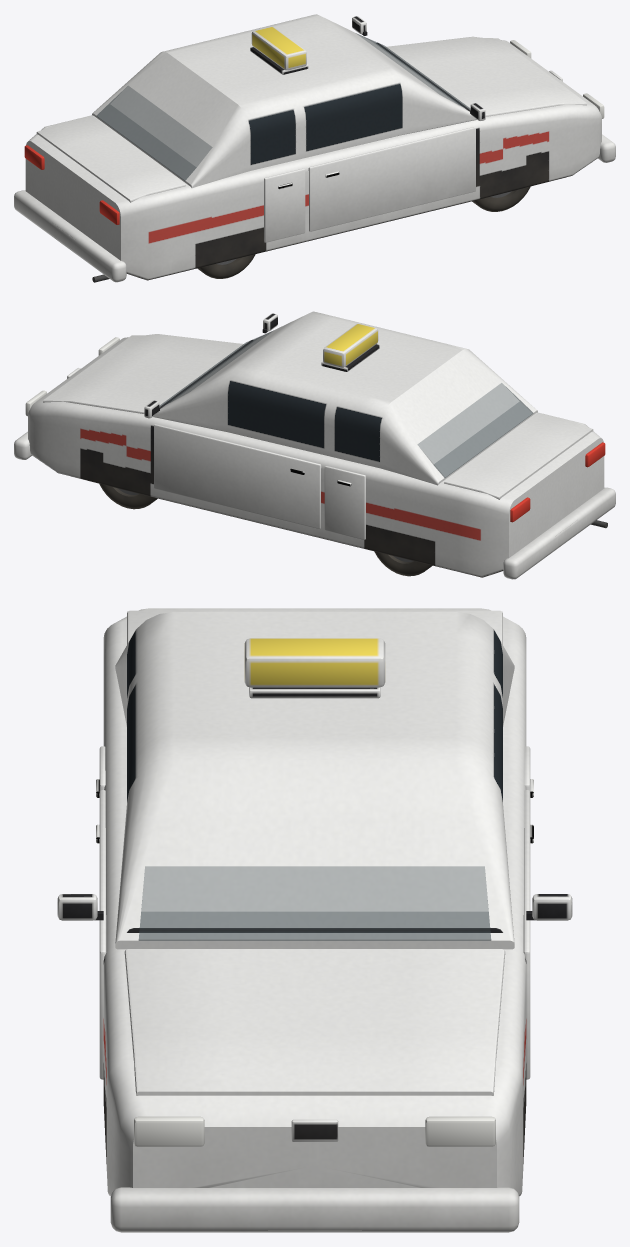
File: taxi-branco-faixa.glb
3 views of the same model, one above another, from view 1: azimuth 30°, elevation 25°; view 2: azimuth 150°, elevation 25°; view 3: azimuth 270°, elevation 25° (orthographic). The views are drawn at different scales.
Parts seen in each view (by area): view 1: body, door_fr, hood, trunk, glass_rear, bumper_rear, door_rr, glass_windshield, wheel_fr_tire, wheel_rr_tire; view 2: body, door_fl, hood, trunk, glass_rear, bumper_rear, door_rl, glass_windshield, wheel_fl_tire, wheel_rl_tire; view 3: body, hood, glass_windshield, bumper_front, headlight_left, headlight_right, door_fl, door_fr, trunk.
Boxes of the visible parts, x1,y1,x2,y2 form: body: [25, 14, 601, 282]; door_fr: [308, 127, 475, 231]; hood: [385, 37, 586, 116]; trunk: [36, 116, 185, 202]; glass_rear: [96, 86, 212, 180]; bumper_rear: [14, 190, 126, 282]; door_rr: [264, 168, 305, 242]; glass_windshield: [356, 33, 470, 109]; wheel_fr_tire: [472, 186, 530, 211]; wheel_rr_tire: [197, 254, 255, 278]; body: [28, 311, 607, 577]; door_fl: [154, 424, 321, 528]; hood: [43, 335, 244, 413]; trunk: [444, 413, 593, 499]; glass_rear: [417, 383, 533, 477]; bumper_rear: [503, 487, 615, 579]; door_rl: [324, 466, 365, 539]; glass_windshield: [159, 330, 273, 407]; wheel_fl_tire: [99, 483, 157, 509]; wheel_rl_tire: [374, 551, 432, 576]; body: [57, 608, 572, 1230]; hood: [124, 949, 505, 1095]; glass_windshield: [138, 866, 491, 940]; bumper_front: [110, 1187, 519, 1232]; headlight_left: [425, 1116, 495, 1146]; headlight_right: [134, 1116, 204, 1146]; door_fl: [523, 790, 533, 1079]; door_fr: [96, 790, 106, 1079]; trunk: [127, 610, 502, 644].
Size of what is drawn, in the model's own units: 4.99 by 1.66 by 2.19.
Materials: 6 (5 with a texture image).
